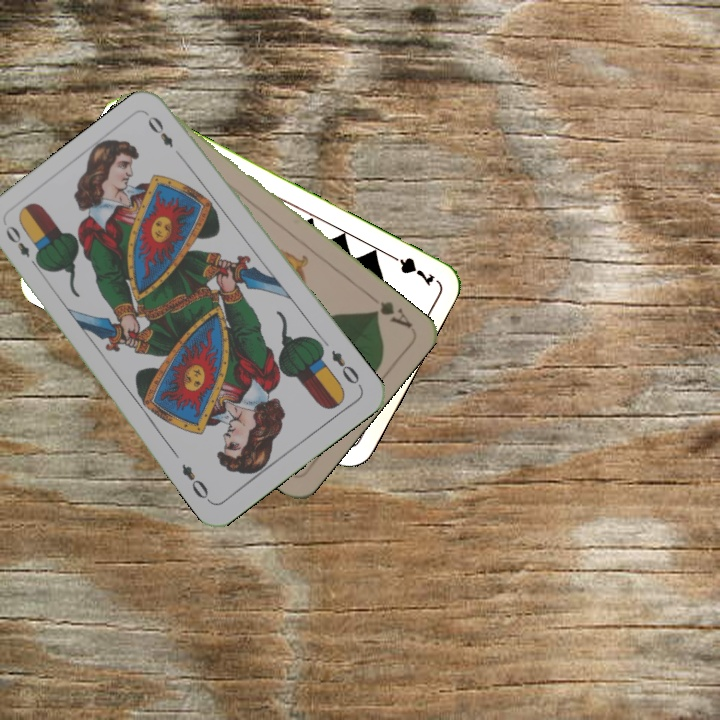EO: (1, 221, 43, 272), (327, 346, 365, 390)
G7: (383, 249, 437, 288)
GA: (367, 297, 415, 331)
